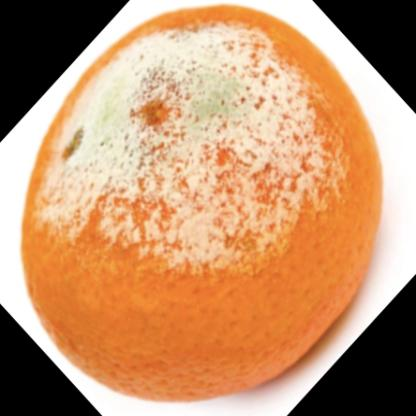rotten: (24, 7, 383, 404)
